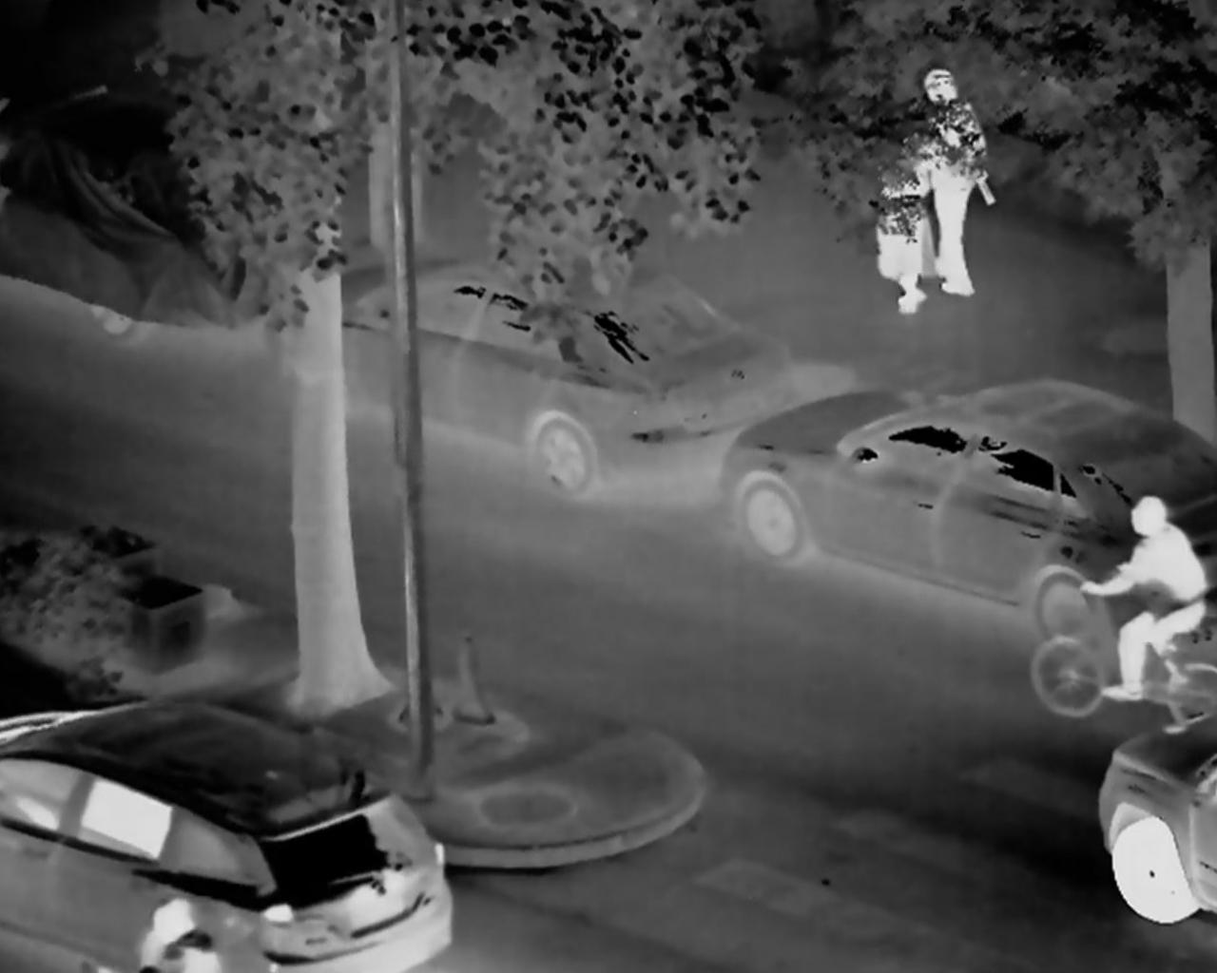person: (1078, 493, 1209, 709), (910, 71, 989, 301), (874, 95, 939, 315)
